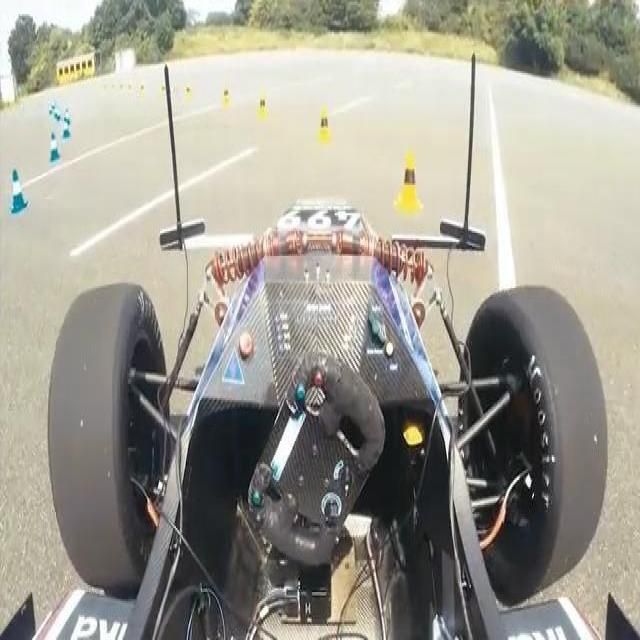blue_cone: (10, 165, 29, 215), (50, 130, 61, 164)
yellow_cone: (394, 151, 425, 214), (317, 107, 333, 148)
